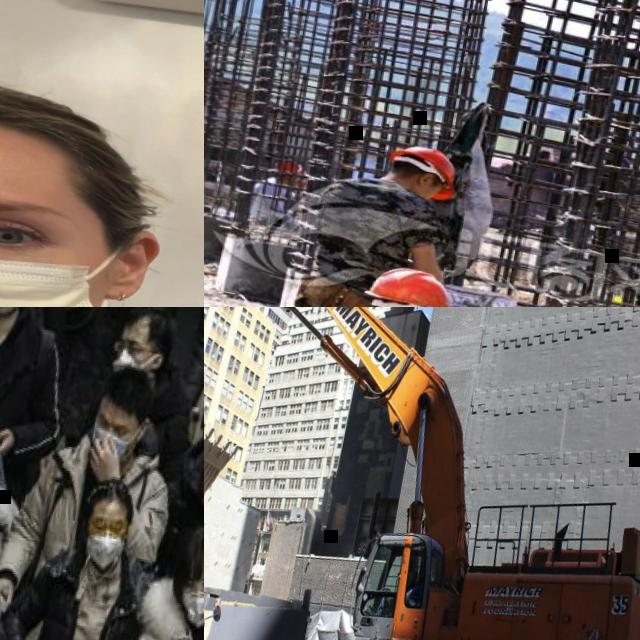Hardhat: (382, 140, 464, 208), (364, 259, 468, 307), (268, 153, 310, 178)
Mask: (0, 183, 125, 307), (85, 424, 135, 466), (82, 530, 126, 574), (112, 347, 158, 377), (178, 592, 204, 629)
NO-Hardhat: (0, 55, 142, 201), (97, 365, 160, 419), (84, 472, 138, 518), (120, 307, 180, 344), (172, 520, 204, 583)
NO-Mask: (409, 180, 439, 203)
NO-Safety Vest: (291, 166, 434, 303), (0, 307, 52, 475), (112, 307, 204, 367), (138, 369, 184, 463), (166, 472, 204, 555), (249, 180, 296, 230), (24, 307, 87, 328)
Person: (0, 26, 204, 307), (0, 350, 191, 640), (285, 125, 465, 307), (54, 307, 204, 504), (0, 461, 165, 640), (0, 307, 88, 504), (78, 513, 204, 640), (74, 307, 204, 411), (151, 388, 204, 602), (14, 307, 94, 381), (248, 152, 312, 240)
vehicle: (204, 307, 640, 640)
